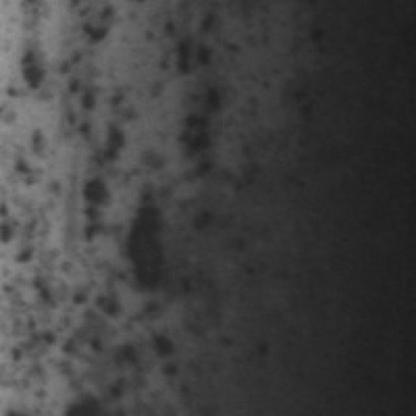pitted_surface: (0, 6, 287, 409)
